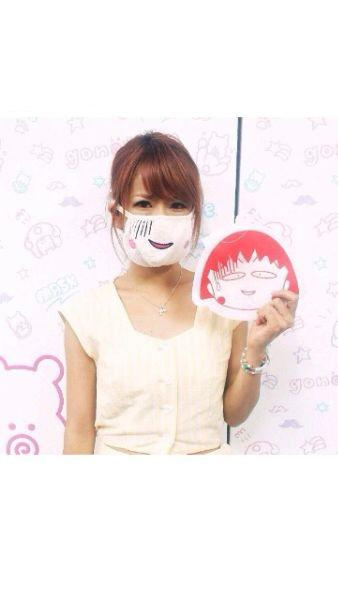OK: (121, 190, 190, 259)
